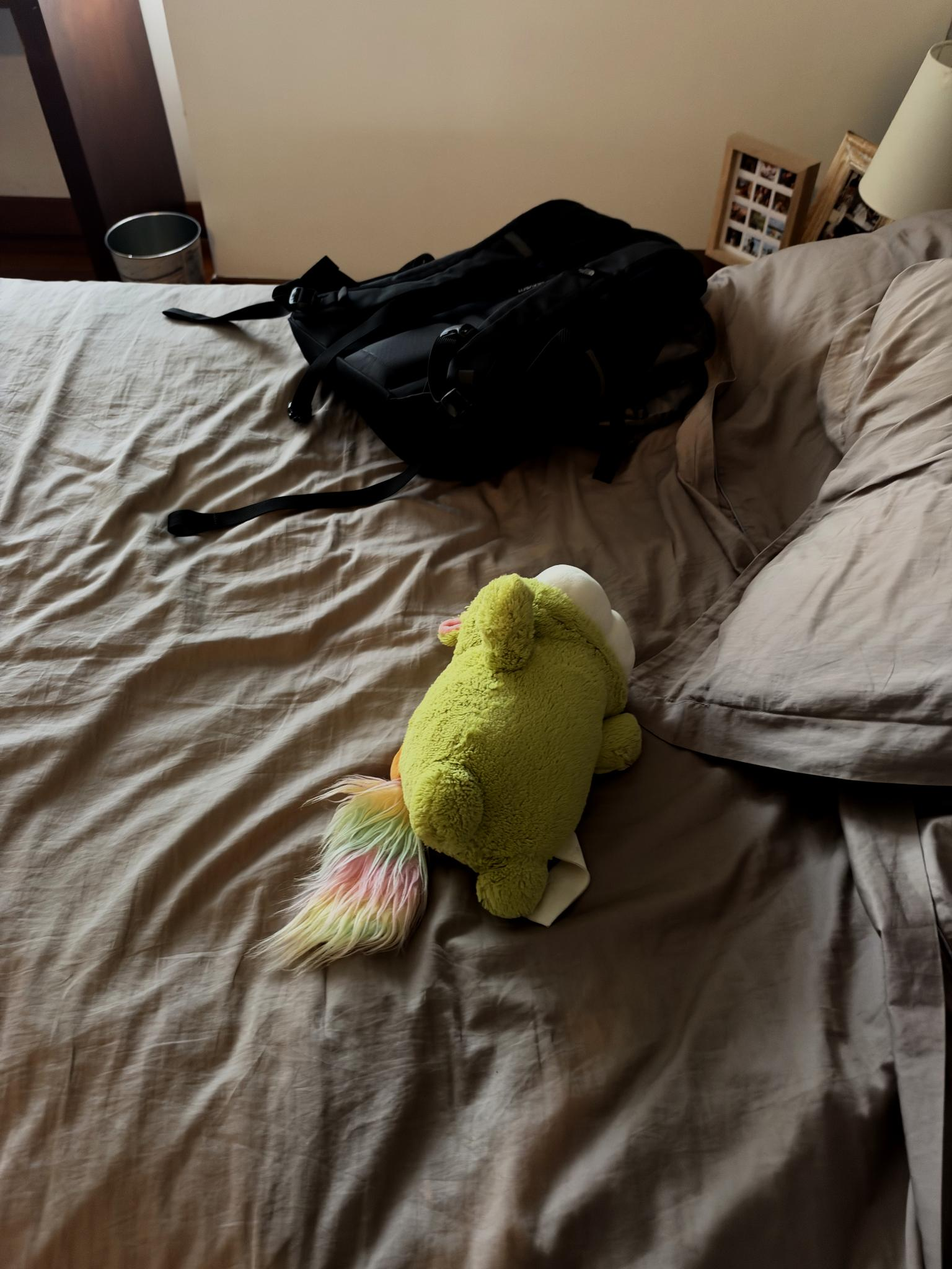peluche_martin: (244, 563, 643, 979)
